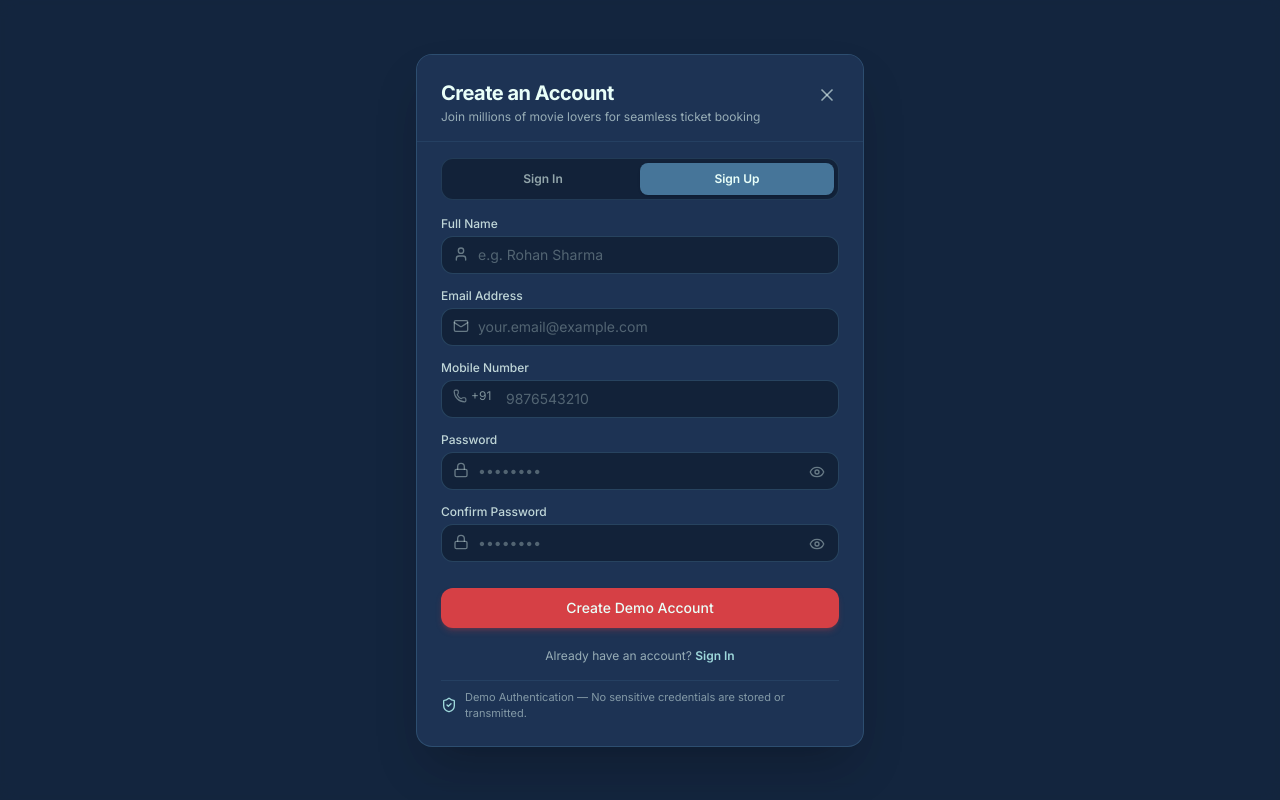
Test: AuthModal & Signup Flow › validates required fields on signup submit and shows field error messages
This screenshot has width=1280, height=800.
Click the button "Create Demo Account": (640, 608) [441,588,839,628]
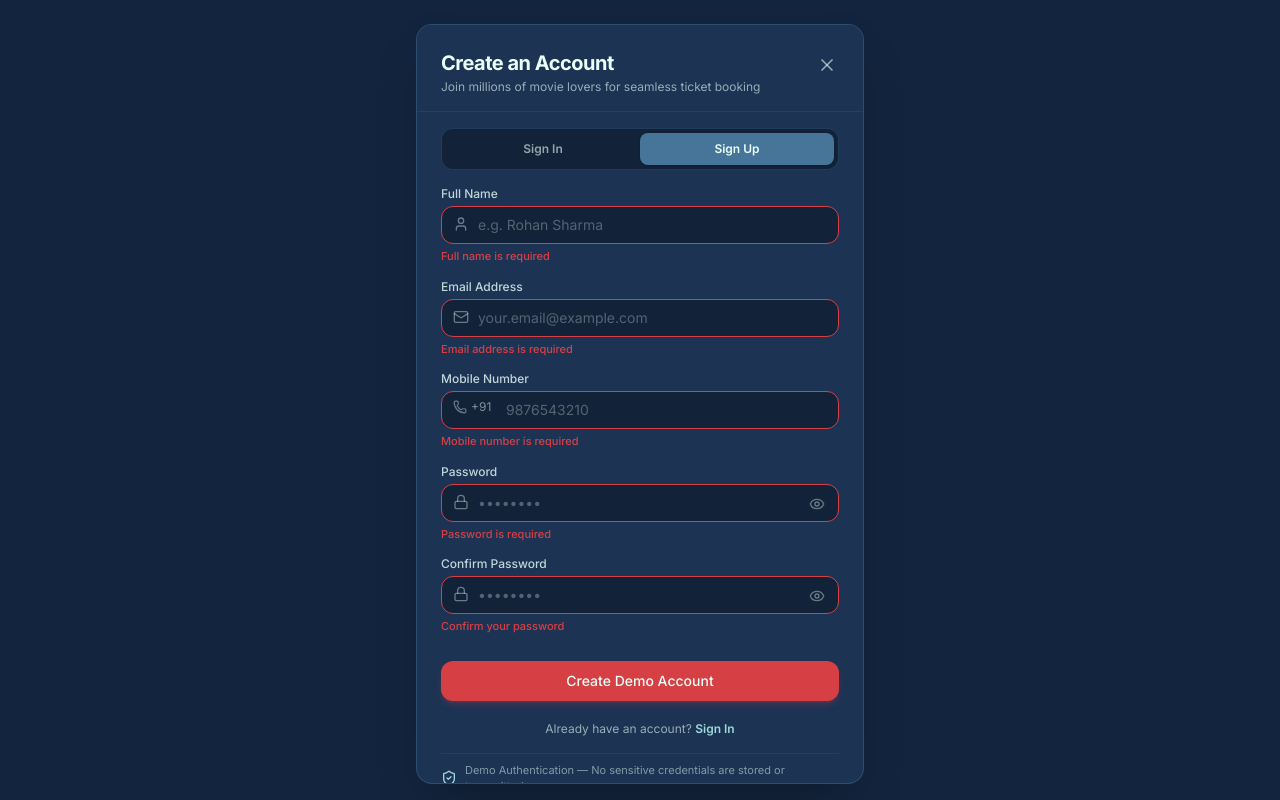
Check: the text "Email address is required" is shown, box [441,342,573,356]
Check: the text "Password is required" is shown, box [441,526,551,540]
Check: the text "Full name is required" is shown, box [441,249,550,263]
